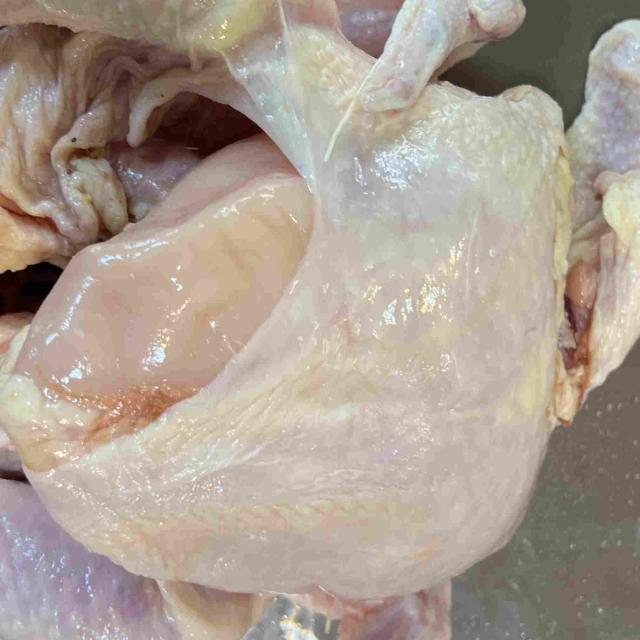breast: (4, 93, 564, 599)
leg: (0, 475, 269, 640)
neck: (558, 19, 640, 410)
wing: (336, 0, 518, 141), (337, 575, 448, 640)
